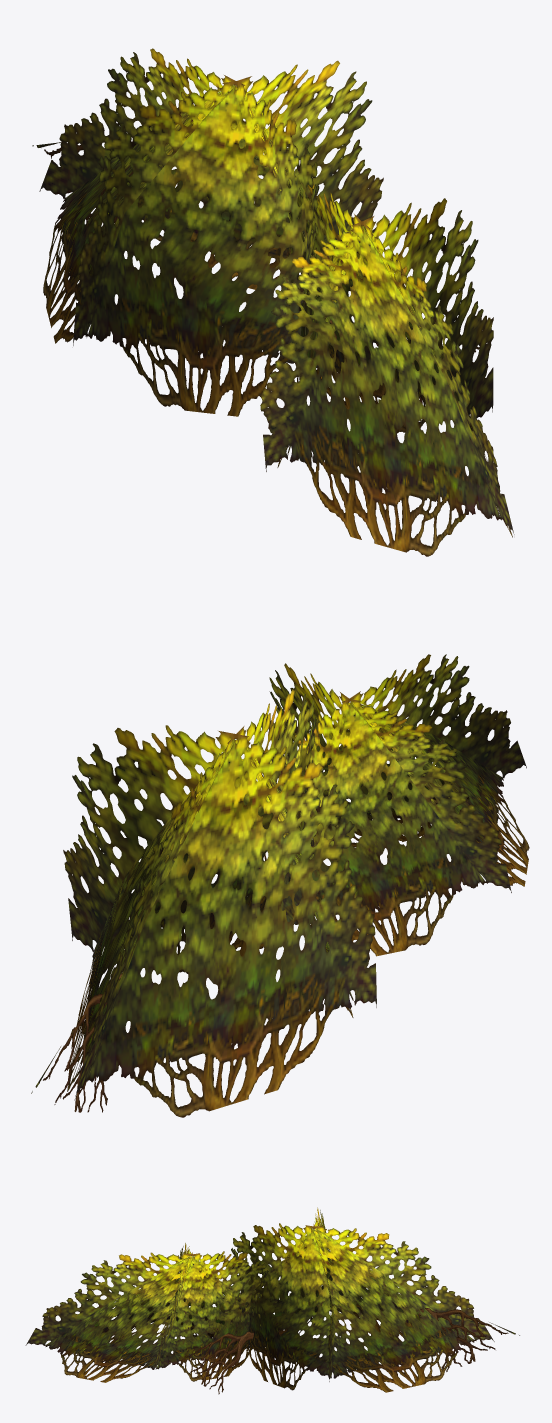
File: elwynnbush02.obj
3 renders of one model, top to bottom at view 1: azimuth 30°, elevation 25°; view 2: azimuth 150°, elevation 25°; view 3: azimuth 270°, elevation 25°, orthographic. The views are drawn at different scales.
Visible parts, largest first — view 1: ElwynnBush02; view 2: ElwynnBush02; view 3: ElwynnBush02.
Boxes of the visible parts, x1,y1,x2,y2 form: ElwynnBush02: [32, 48, 514, 556]; ElwynnBush02: [31, 654, 529, 1117]; ElwynnBush02: [25, 1207, 519, 1394].
Bounding box in the file's own units: 5.29 × 5.52 × 14.32.
1 material, 1 textured.
